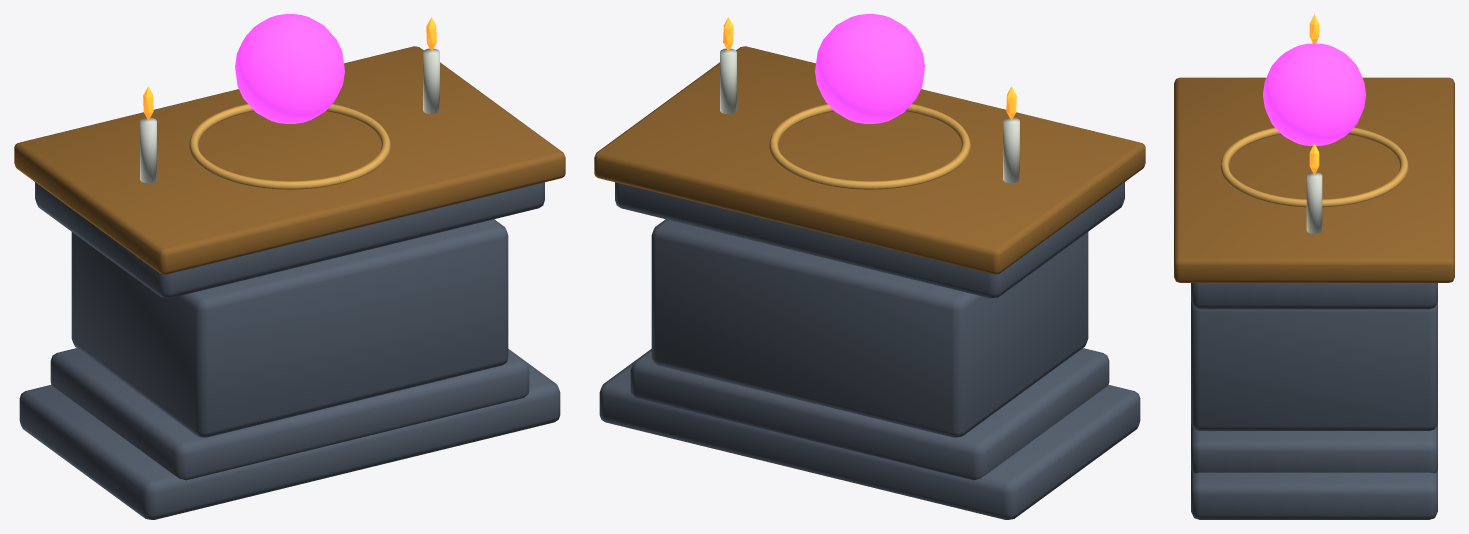
File: prop-4-refined-v15.fbx
3 views of the same model, side by side, from view 1: azimuth 30°, elevation 25°; view 2: azimuth 150°, elevation 25°; view 3: azimuth 270°, elevation 25° (orthographic). The views are drawn at different scales.
Parts seen in each view (by area): view 1: GildedAltarSlab, AltarStone.002, AltarStone, AltarStone.001, AltarStone.003, RitualOrb, RitualSeal, Candle.001, Candle; view 2: GildedAltarSlab, AltarStone.002, AltarStone, AltarStone.001, AltarStone.003, RitualOrb, RitualSeal, Candle.001, Candle; view 3: GildedAltarSlab, AltarStone.002, AltarStone, AltarStone.001, RitualOrb, AltarStone.003, RitualSeal, Candle.001.
Part boxes in pixels (x1,y1,x2,y2): GildedAltarSlab: (14, 46, 565, 274); AltarStone.002: (71, 219, 508, 437); AltarStone: (19, 362, 560, 519); AltarStone.001: (50, 348, 529, 480); AltarStone.003: (35, 182, 544, 298); RitualOrb: (235, 14, 344, 123); RitualSeal: (189, 104, 390, 189); Candle.001: (423, 48, 439, 114); Candle: (140, 117, 156, 183); GildedAltarSlab: (594, 46, 1145, 274); AltarStone.002: (651, 219, 1088, 437); AltarStone: (599, 362, 1140, 519); AltarStone.001: (630, 348, 1109, 480); AltarStone.003: (615, 182, 1124, 298); RitualOrb: (815, 14, 924, 123); RitualSeal: (769, 104, 970, 189); Candle.001: (720, 48, 736, 114); Candle: (1003, 117, 1019, 183); GildedAltarSlab: (1174, 77, 1454, 282); AltarStone.002: (1191, 301, 1437, 430); AltarStone: (1191, 469, 1437, 519); AltarStone.001: (1191, 423, 1437, 473); RitualOrb: (1263, 43, 1365, 145); AltarStone.003: (1191, 283, 1437, 309); RitualSeal: (1220, 127, 1408, 207); Candle.001: (1306, 172, 1322, 233).
Bounding box in the file's own units: 200 × 187 × 125.
